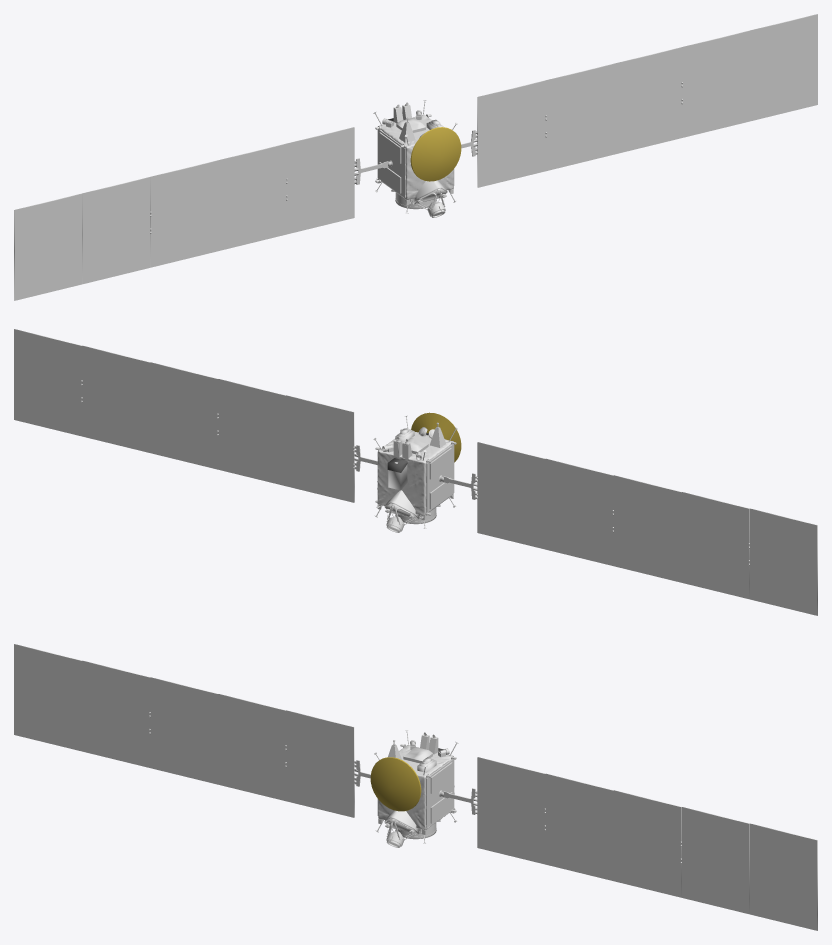
The model's file is Dawn_19.fbx.
The picture shows the model from 3 angles, top to bottom: view 1: azimuth 30°, elevation 25°; view 2: azimuth 150°, elevation 25°; view 3: azimuth 330°, elevation 25°; orthographic projection.
Visible parts, largest first — view 1: Dawn; view 2: Dawn; view 3: Dawn.
Part boxes in pixels (x1,y1,x2,y2): Dawn: (14, 14, 817, 300); Dawn: (14, 329, 817, 615); Dawn: (14, 644, 817, 930).
Size of the model in its own units: 1970 by 220 by 222.
